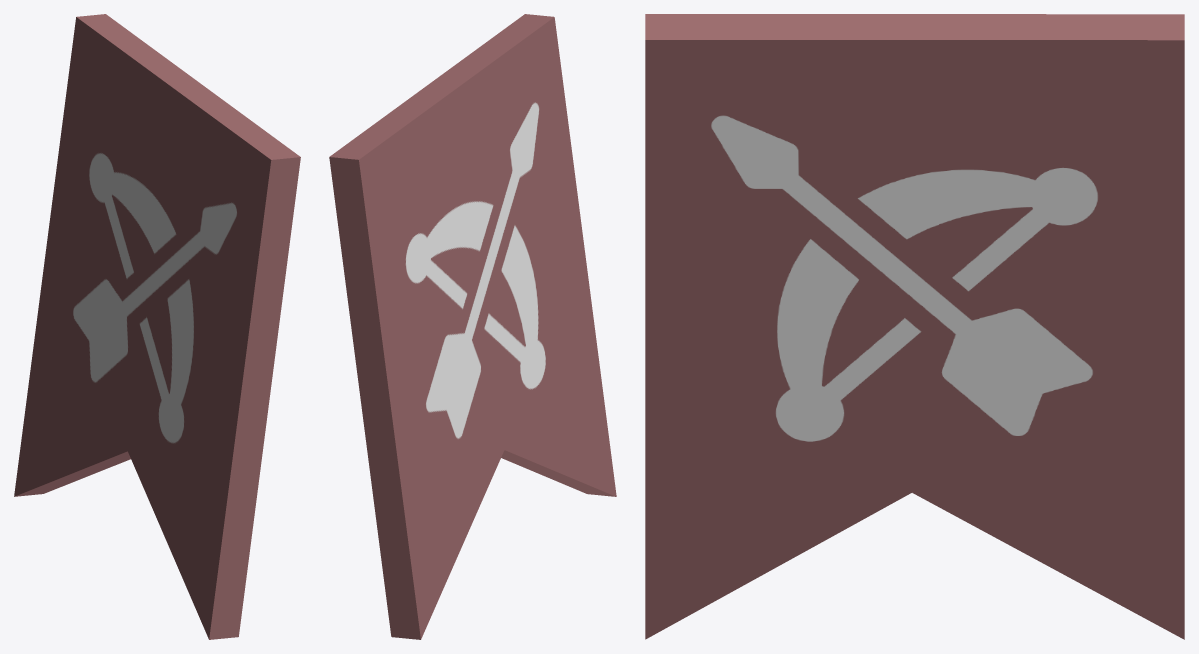
File: Archer_flag.fbx
3 renders of one model, left to right at view 1: azimuth 30°, elevation 25°; view 2: azimuth 150°, elevation 25°; view 3: azimuth 270°, elevation 25°, orthographic. The views are drawn at different scales.
Visible parts, largest first — view 1: Cube.030; view 2: Cube.030; view 3: Cube.030.
Boxes of the visible parts, box(x1,y1,x2,y2) form: Cube.030: box(14, 14, 300, 639); Cube.030: box(329, 14, 616, 639); Cube.030: box(645, 14, 1184, 639).
Size of the model in its own units: 35.01 by 170 by 129.
